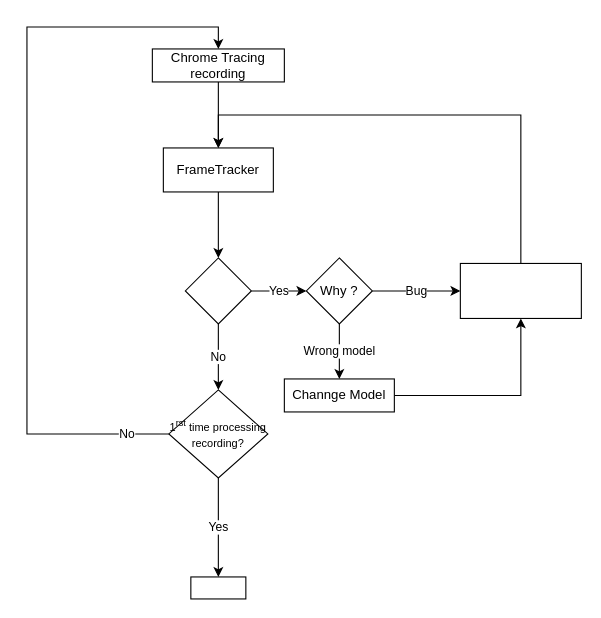
This 601x618 diagram has some shape labels left out. The centre of each missing label's shape, as x and y in pixels:
"Change FrameTracker" belongs at point 520,290.
"End" belongs at point 218,587.
"Errors ?" belongs at point 217,290.
